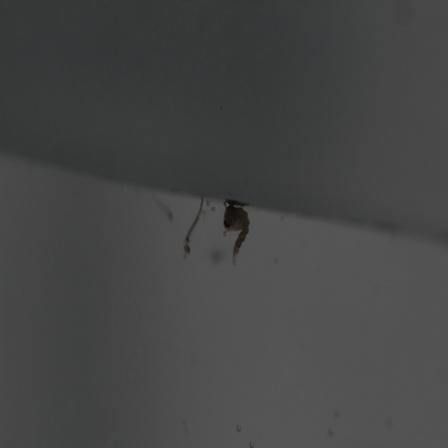Jentik-Nyamuk: (217, 200, 255, 271), (179, 191, 207, 259)
